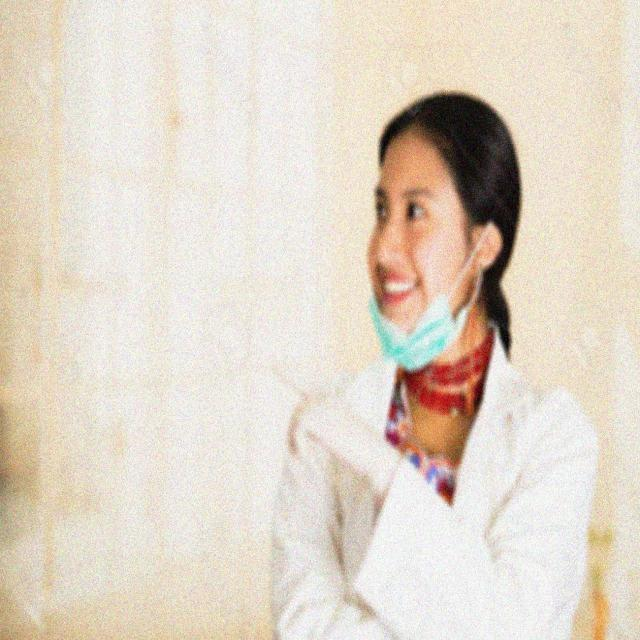hairnet: (348, 113, 521, 373)
